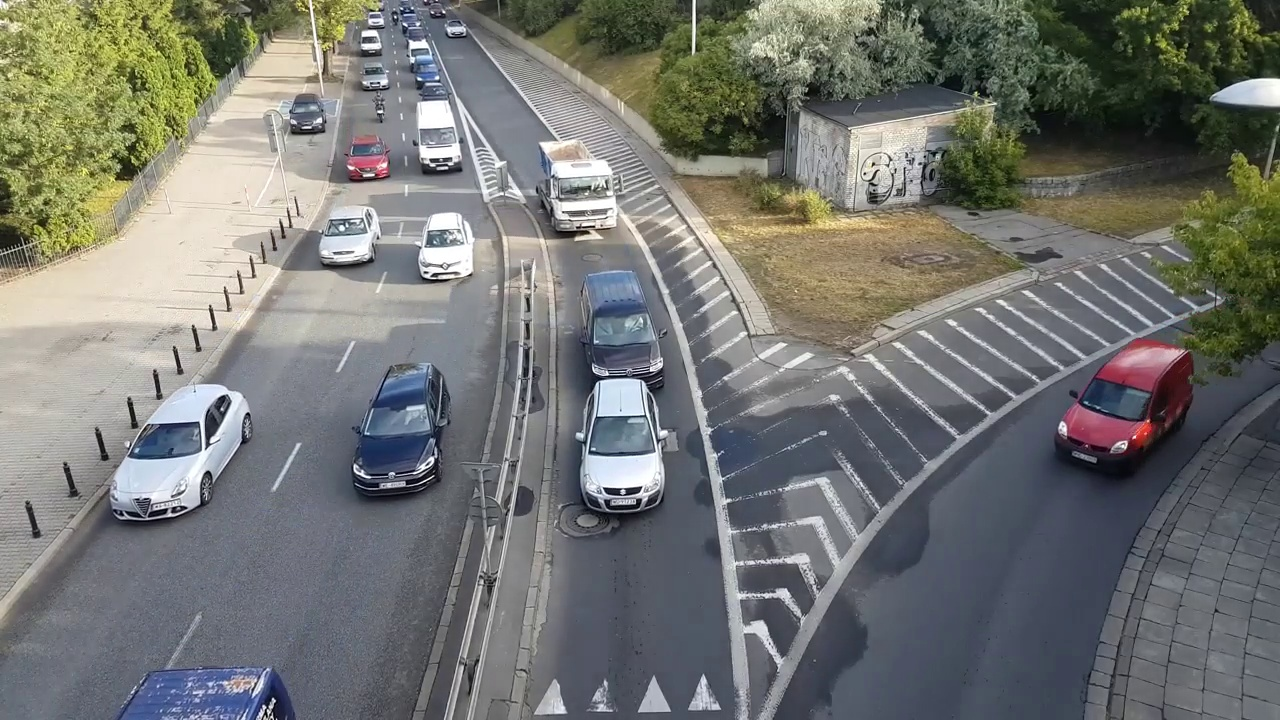car: (112, 380, 248, 529), (1052, 339, 1193, 479), (347, 360, 447, 497), (576, 379, 664, 513), (578, 267, 668, 387), (535, 136, 617, 234), (417, 210, 480, 284), (415, 99, 463, 174), (323, 205, 378, 265), (348, 134, 390, 183), (291, 95, 324, 134), (407, 39, 432, 73), (360, 62, 388, 91), (412, 55, 438, 86), (359, 29, 381, 56), (399, 11, 420, 35), (444, 21, 466, 39), (428, 2, 447, 20), (369, 12, 386, 30)
motorbike: (375, 92, 385, 123)
